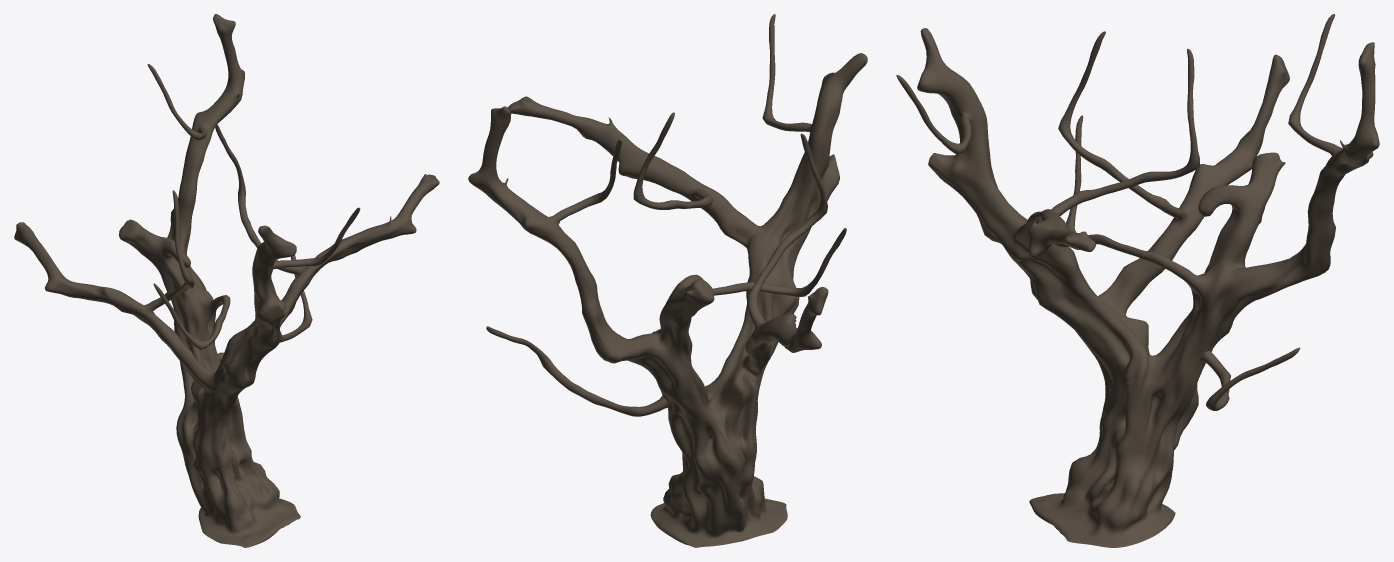
The model's file is island_tree_01_1k.glb.
The picture shows the model from 3 angles, left to right: view 1: azimuth 30°, elevation 25°; view 2: azimuth 150°, elevation 25°; view 3: azimuth 270°, elevation 25°; orthographic projection. The views are drawn at different scales.
Visible parts, largest first — view 1: island_tree_01; view 2: island_tree_01; view 3: island_tree_01.
Boxes of the visible parts, x1,y1,x2,y2 form: island_tree_01: (14, 14, 439, 547); island_tree_01: (468, 14, 867, 547); island_tree_01: (896, 14, 1379, 547).
Bounding box in the file's own units: 3.15 × 3.58 × 2.99.
1 material, 1 textured.
